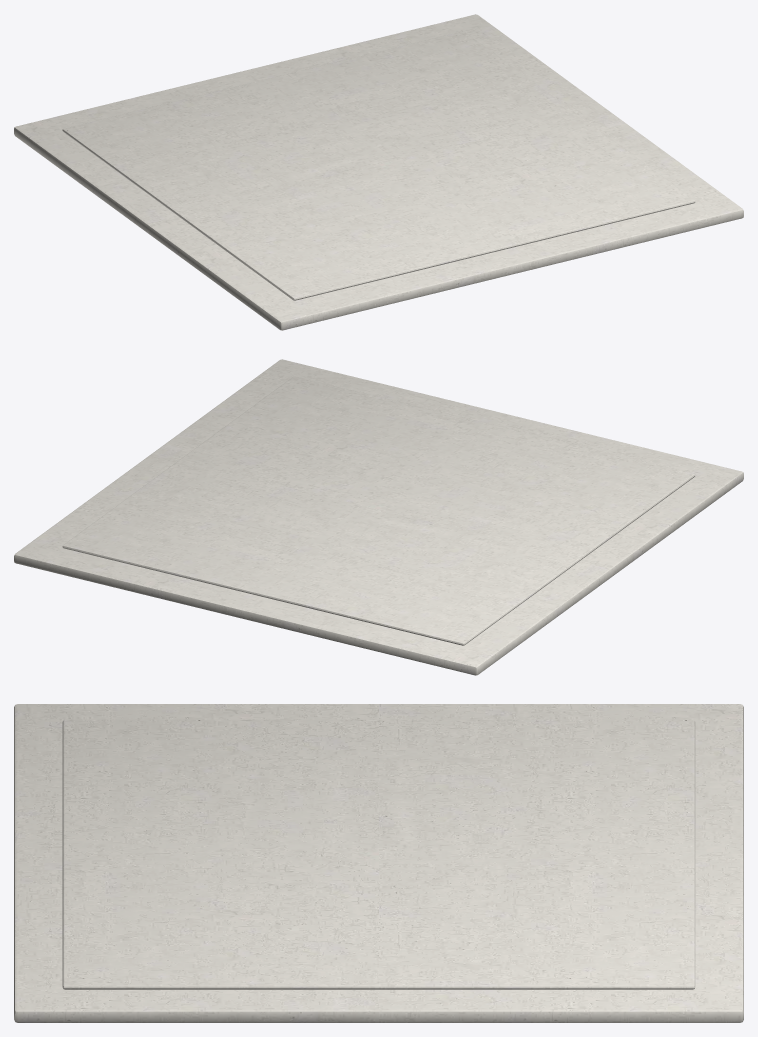
Rendered from REV-GES-002.glb.
3 views of the same model, one above another, from view 1: azimuth 30°, elevation 25°; view 2: azimuth 150°, elevation 25°; view 3: azimuth 270°, elevation 25° (orthographic). The views are drawn at different scales.
Visible parts, largest first — view 1: REV-GES-002_rebaixo, REV-GES-002_placa; view 2: REV-GES-002_rebaixo, REV-GES-002_placa; view 3: REV-GES-002_rebaixo, REV-GES-002_placa.
Part boxes in pixels (box(x1,y1,x2,y2)): REV-GES-002_rebaixo: box(62, 31, 695, 300); REV-GES-002_placa: box(14, 14, 743, 330); REV-GES-002_rebaixo: box(62, 376, 695, 645); REV-GES-002_placa: box(14, 359, 743, 675); REV-GES-002_rebaixo: box(62, 719, 695, 989); REV-GES-002_placa: box(14, 704, 743, 1022).
Bounding box in the file's own units: 0.6 × 0.016 × 0.6.
Materials: 1 (1 with a texture image).
